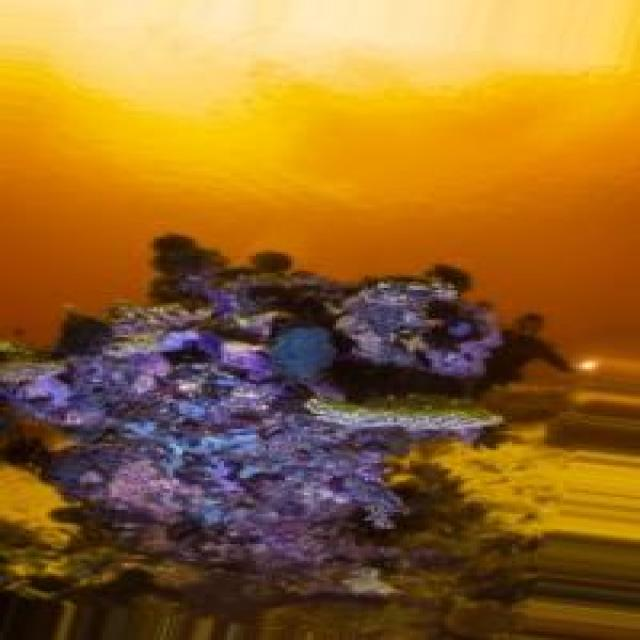Healthy: (15, 238, 531, 561)
